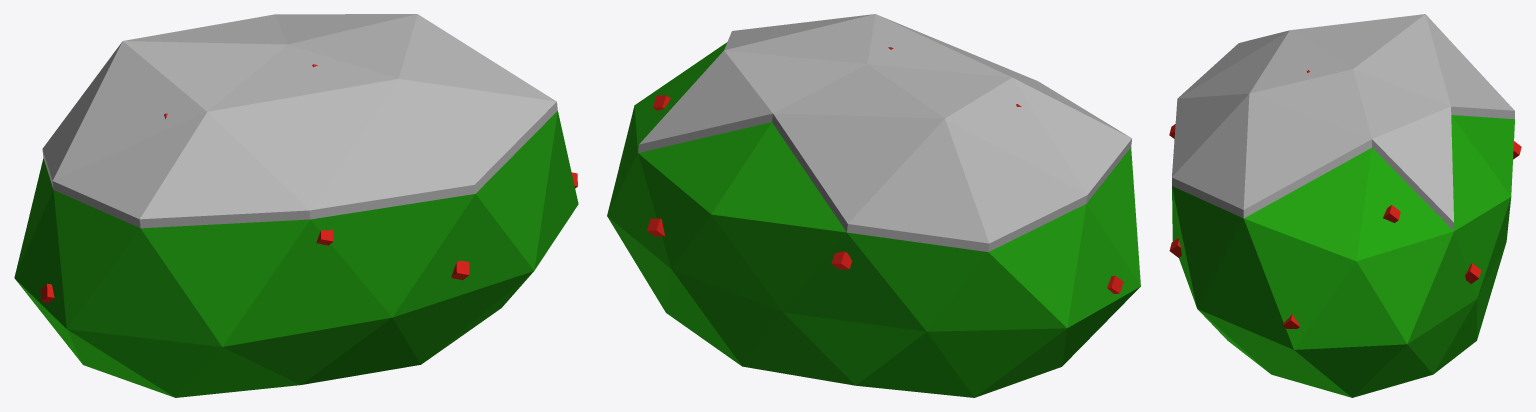
File: Bush_9 Winter.fbx
3 renders of one model, left to right at view 1: azimuth 30°, elevation 25°; view 2: azimuth 150°, elevation 25°; view 3: azimuth 270°, elevation 25°, orthographic. The views are drawn at different scales.
Visible parts, largest first — view 1: Bush9Winter_mesh; view 2: Bush9Winter_mesh; view 3: Bush9Winter_mesh.
Boxes of the visible parts, x1,y1,x2,y2 form: Bush9Winter_mesh: [14, 14, 578, 397]; Bush9Winter_mesh: [607, 14, 1140, 397]; Bush9Winter_mesh: [1169, 14, 1521, 397].
Size of the model in its own units: 154 by 87.67 by 105.
